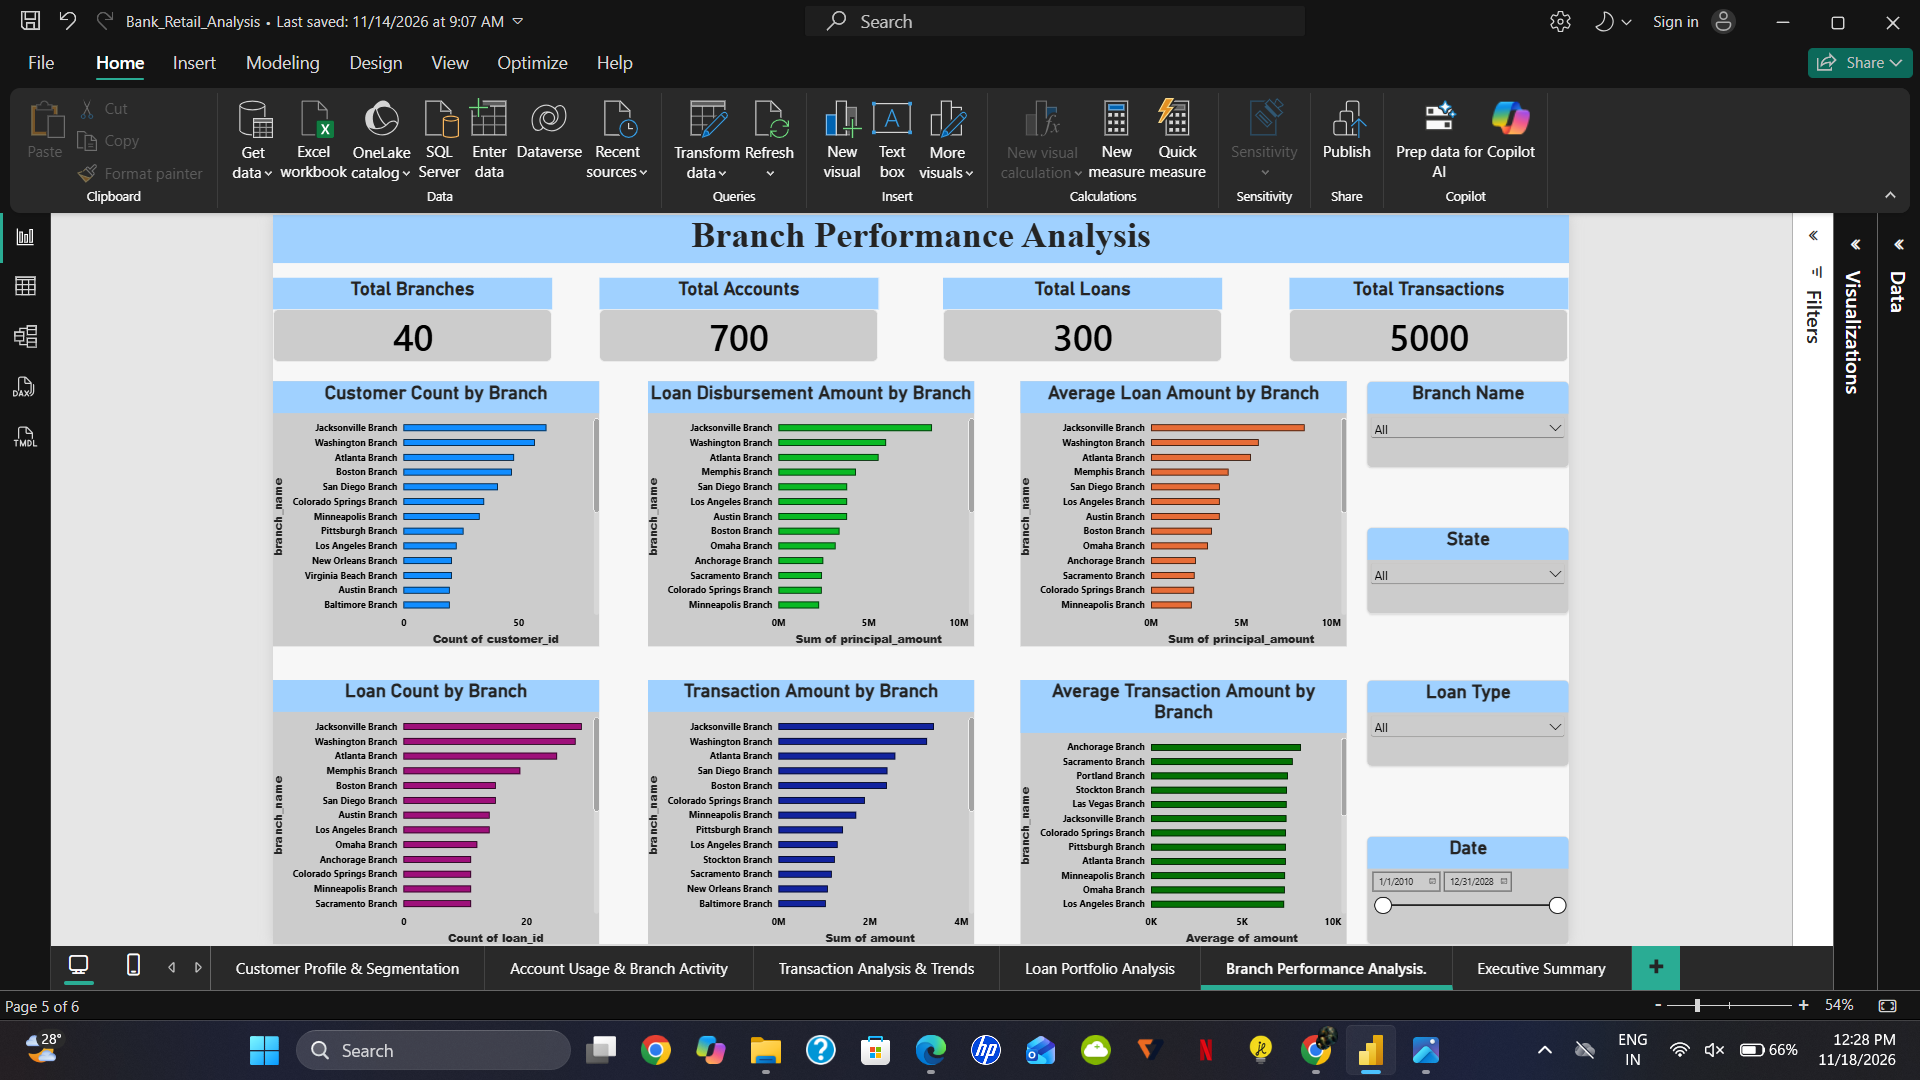

What the dashboard file says about the page in this screenshot:
{"tool":"powerbi","page":{"name":"Branch Performance Analysis.","canvas":[1920,1080],"ordinal":4},"visuals":[{"type":"textbox","box":[0,0,1920.4,71],"z":0},{"type":"cardVisual","title":"Total Branches","fields":{"Data":["accounts.Total Branches"]},"box":[0,92.8,413.8,125.7],"z":1},{"type":"cardVisual","title":"Total Accounts","fields":{"Data":["accounts.Total Accounts"]},"box":[483.4,92.8,413.8,125.7],"z":2},{"type":"cardVisual","title":"Total Loans","fields":{"Data":["accounts.Total Loans"]},"box":[991.9,92.8,413.8,125.7],"z":3},{"type":"cardVisual","title":"Total Transactions","fields":{"Data":["accounts.Total Transactions"]},"box":[1506.2,92.8,413.8,125.7],"z":4},{"type":"clusteredBarChart","title":"Customer Count by Branch","fields":{"Category":["branches.branch_name"],"Y":["Count(accounts.customer_id)"]},"box":[0,245.6,483.4,392.5],"z":5},{"type":"clusteredBarChart","title":"Loan Count by Branch","fields":{"Category":["branches.branch_name"],"Y":["CountNonNull(loans.loan_id)"]},"box":[0,688.3,483.4,392.5],"z":6},{"type":"clusteredBarChart","title":"Loan Disbursement Amount by Branch","fields":{"Category":["branches.branch_name"],"Y":["Sum(loans.principal_amount)"]},"box":[554.9,245.6,483.4,392.5],"z":7},{"type":"clusteredBarChart","title":"Transaction Amount by Branch","fields":{"Category":["branches.branch_name"],"Y":["Sum(transactions.amount)"]},"box":[554.9,688.3,483.4,392.5],"z":8},{"type":"clusteredBarChart","title":"Average Loan Amount by Branch","fields":{"Category":["branches.branch_name"],"Y":["Sum(loans.principal_amount)"]},"box":[1107.9,245.6,483.4,392.5],"z":9},{"type":"clusteredBarChart","title":"Average Transaction Amount by Branch","fields":{"Category":["branches.branch_name"],"Y":["Avg(transactions.amount)"]},"box":[1107.9,688.3,483.4,392.5],"z":10},{"type":"slicer","title":"Branch Name","fields":{"Values":["branches.branch_name"]},"box":[1620.3,245.6,299.7,127.6],"z":11},{"type":"slicer","title":"State","fields":{"Values":["branches.state"]},"box":[1620.3,462.1,299.7,127.6],"z":12},{"type":"slicer","title":"Loan Type","fields":{"Values":["loans.loan_type"]},"box":[1620.3,688.3,299.7,127.6],"z":13},{"type":"slicer","title":"Date","fields":{"Values":["date_table.Date"]},"box":[1620.3,920.4,299.7,160.5],"z":14}]}

Visuals, with their boxes on the page's 1920x1080 design canvas (x1, y1, x2, y2). These are canvas units, not pixel positions in the 1920x1080 screenshot, which may show the page scaled, cropped or inside an application window:
textbox: locate(0, 0, 1920, 71)
"Total Branches" cardVisual: locate(0, 93, 414, 218)
"Total Accounts" cardVisual: locate(483, 93, 897, 218)
"Total Loans" cardVisual: locate(992, 93, 1406, 218)
"Total Transactions" cardVisual: locate(1506, 93, 1920, 218)
"Customer Count by Branch" clusteredBarChart: locate(0, 246, 483, 638)
"Loan Count by Branch" clusteredBarChart: locate(0, 688, 483, 1081)
"Loan Disbursement Amount by Branch" clusteredBarChart: locate(555, 246, 1038, 638)
"Transaction Amount by Branch" clusteredBarChart: locate(555, 688, 1038, 1081)
"Average Loan Amount by Branch" clusteredBarChart: locate(1108, 246, 1591, 638)
"Average Transaction Amount by Branch" clusteredBarChart: locate(1108, 688, 1591, 1081)
"Branch Name" slicer: locate(1620, 246, 1920, 373)
"State" slicer: locate(1620, 462, 1920, 590)
"Loan Type" slicer: locate(1620, 688, 1920, 816)
"Date" slicer: locate(1620, 920, 1920, 1081)
